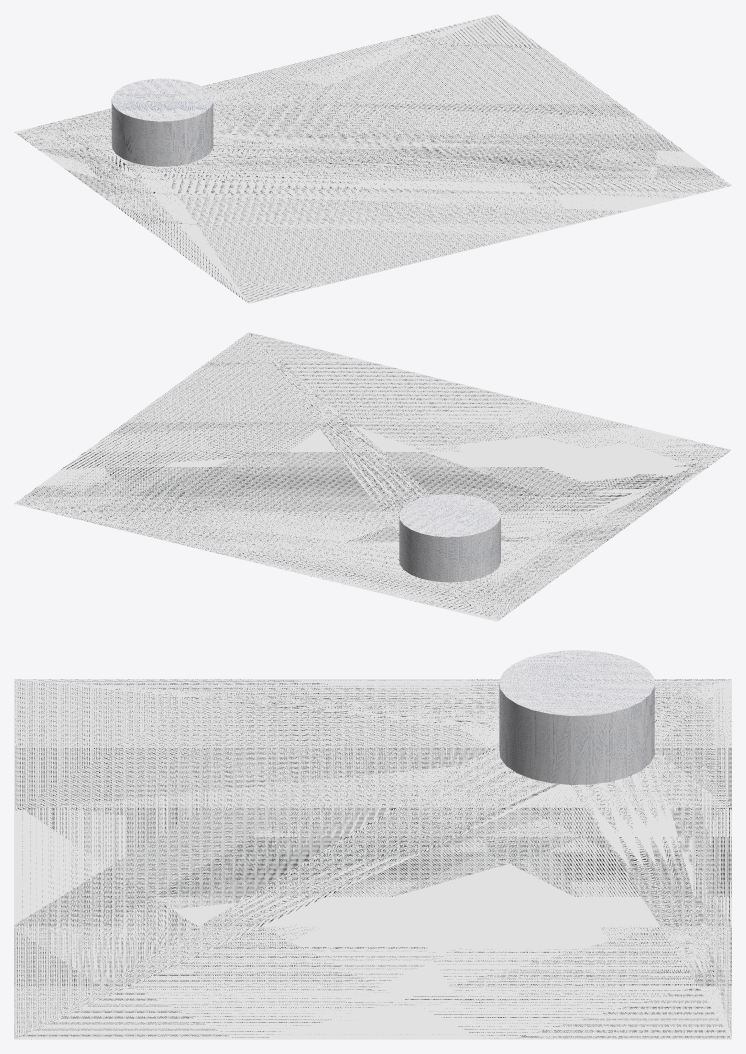
The model's file is ground.obj.
3 views of the same model, one above another, from view 1: azimuth 30°, elevation 25°; view 2: azimuth 150°, elevation 25°; view 3: azimuth 270°, elevation 25° (orthographic). The views are drawn at different scales.
Parts seen in each view (by area): view 1: Mesh1 Model; view 2: Mesh1 Model; view 3: Mesh1 Model.
Boxes of the visible parts, bbox=[...] form: Mesh1 Model: bbox=[14, 14, 731, 303]; Mesh1 Model: bbox=[14, 332, 731, 621]; Mesh1 Model: bbox=[14, 650, 731, 1039].
Bounding box in the file's own units: 1188 × 106 × 999.
